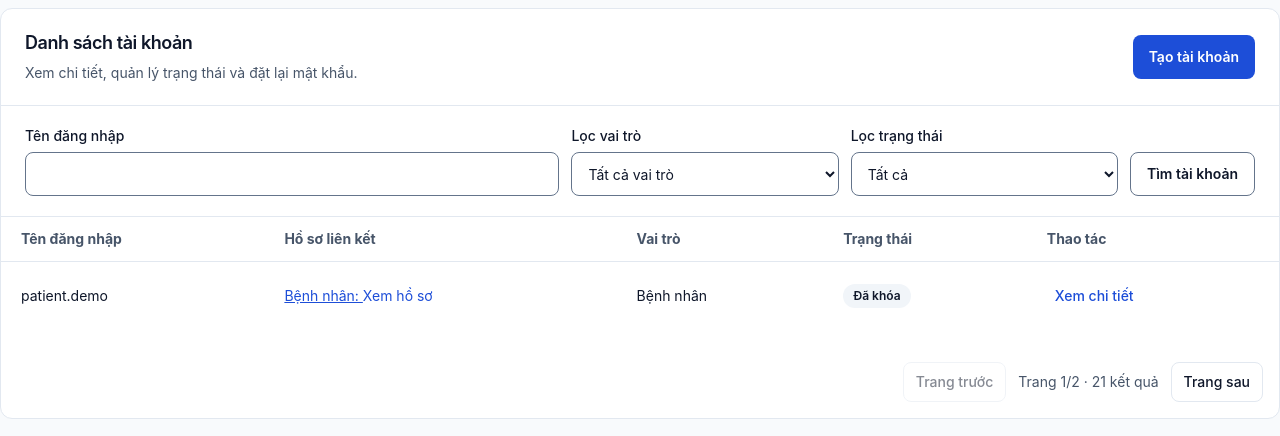
Test case: retries the failed filtered page, then selects the exact account
Expected: the text "patient.demo" is shown, [1,262,264,330]
Click the button "Trang sau" at (1217, 382), box [1171,362,1263,402]
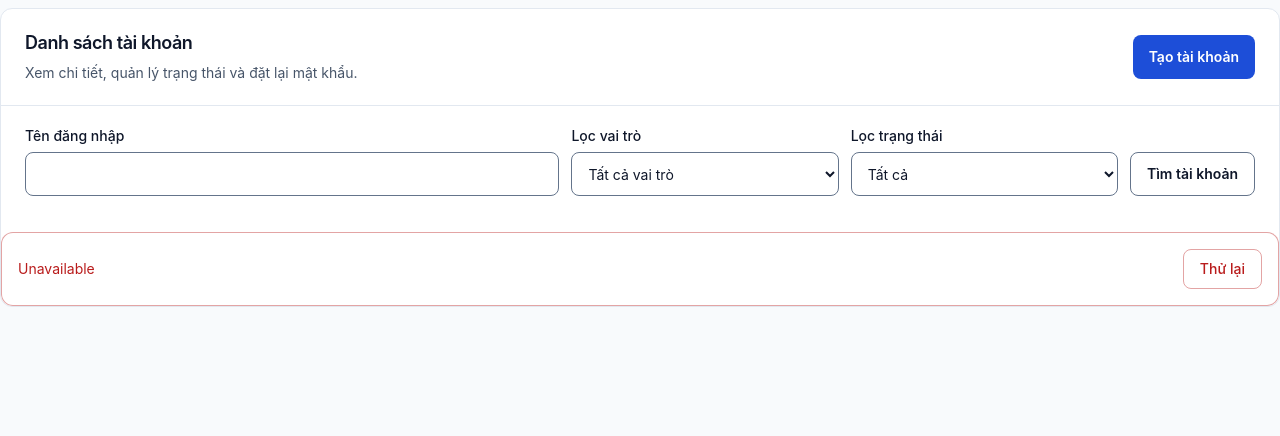
Expected: the message "Unavailable Thử lại" is shown, [1,232,1279,306]
Type "unsent-filter" into the field labelled "Tên đăng nhập" at (292, 174), box [25,152,560,196]
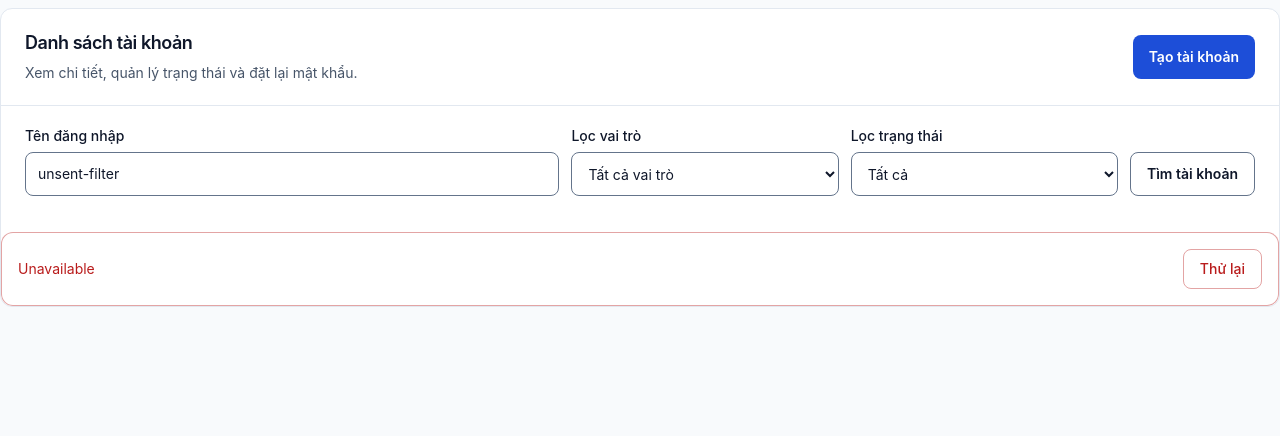
Click the button "Thử lại" at (1222, 269), box [1183,249,1262,289]
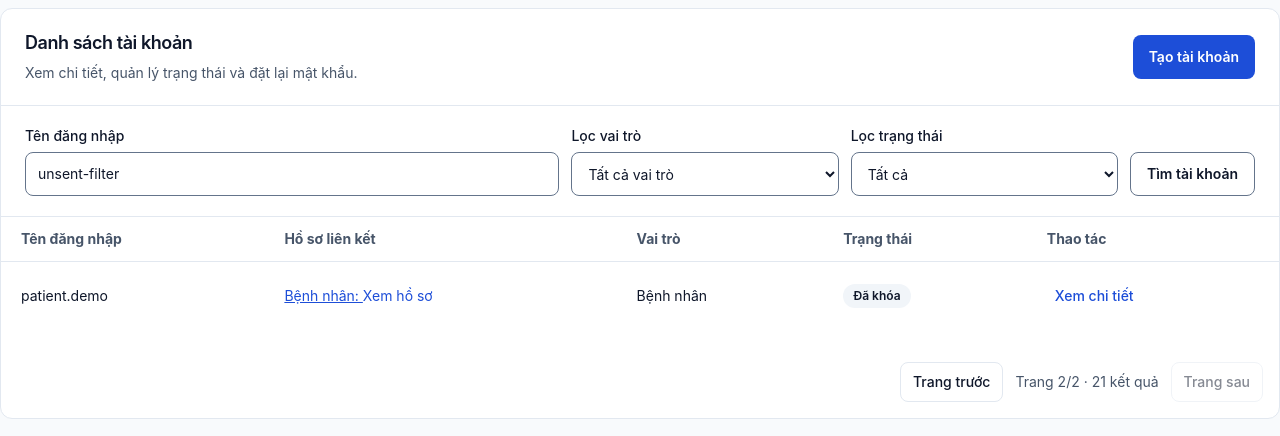
Expected: the text "patient.demo" is shown, [1,262,264,330]
